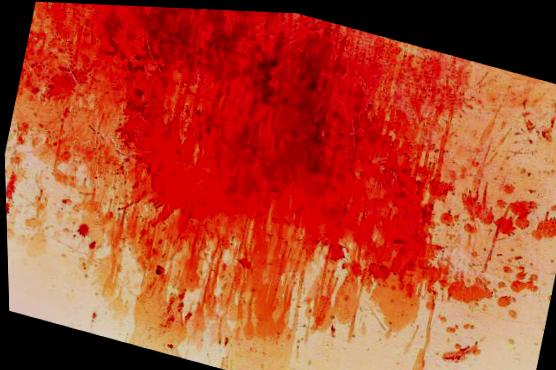Fire: (4, 1, 556, 368)
